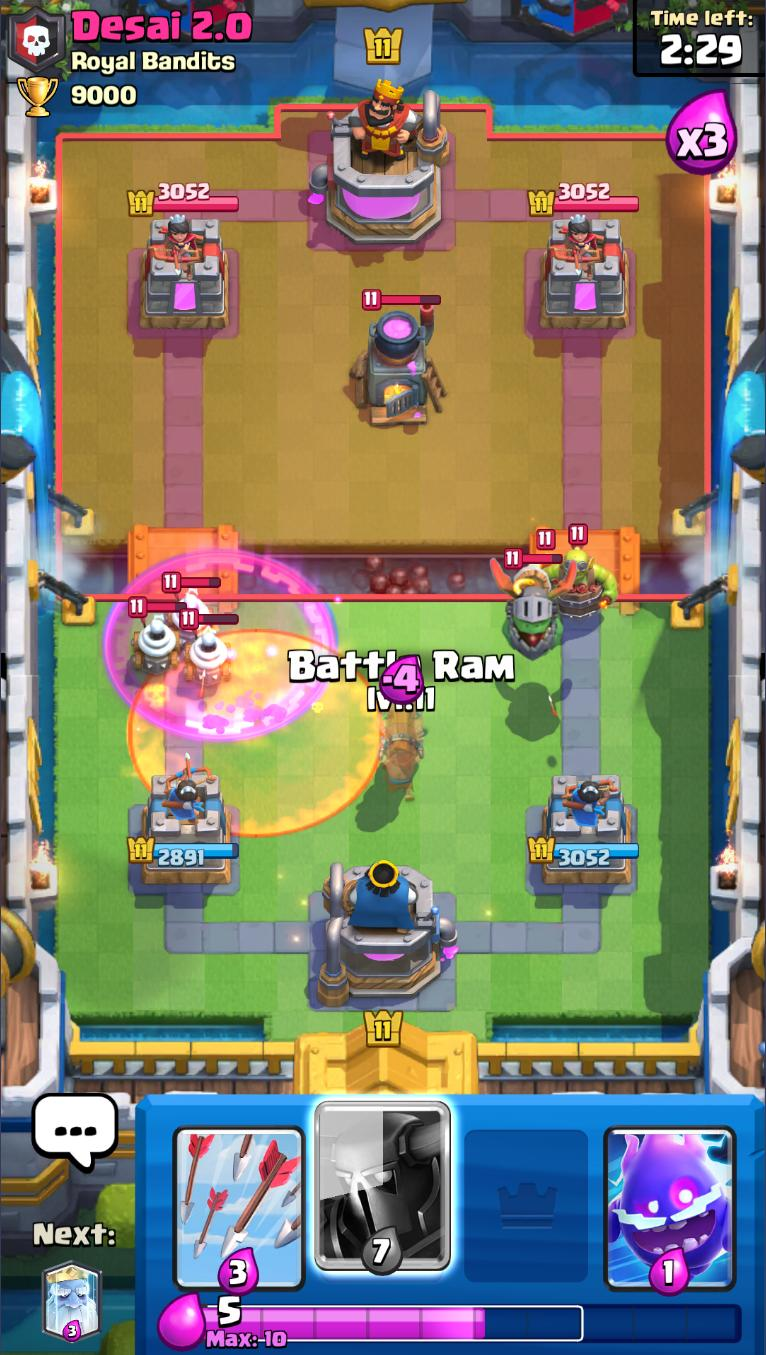ArrowDeck: (166, 1096, 312, 1294)
Demolisher: (537, 523, 621, 622)
ElectroSpiritDeck: (598, 1095, 743, 1296)
Elixir: (202, 1294, 743, 1351)
Empty: (454, 1097, 598, 1296)
EnemyTower: (138, 215, 232, 331), (539, 215, 632, 331)
Furnace: (351, 289, 448, 426)
InfernoDragon: (487, 548, 578, 660)
KingTower: (310, 79, 451, 248)
MiniGenerator: (178, 609, 240, 687), (128, 596, 184, 674), (161, 573, 222, 643)
MyKingTower: (316, 856, 459, 1009)
MyPrincessTower: (125, 771, 242, 889), (528, 770, 641, 889)
MyPrincessTowerHP: (125, 835, 241, 868), (527, 835, 641, 868)
PekkaDeck: (312, 1096, 453, 1298)
Poison: (131, 631, 383, 837)
PrincessTower: (149, 215, 203, 277), (550, 216, 603, 274)
Rage: (106, 551, 337, 740)
RoyaleGhostNext: (41, 1264, 104, 1342)
TowerPrincessHP: (127, 182, 240, 217), (528, 182, 641, 216)
